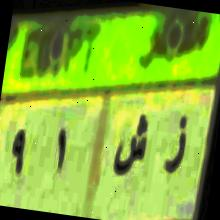1: (43, 118, 80, 180)
9: (6, 120, 32, 180)
sheen: (109, 105, 156, 185)
zay: (160, 112, 194, 184)
